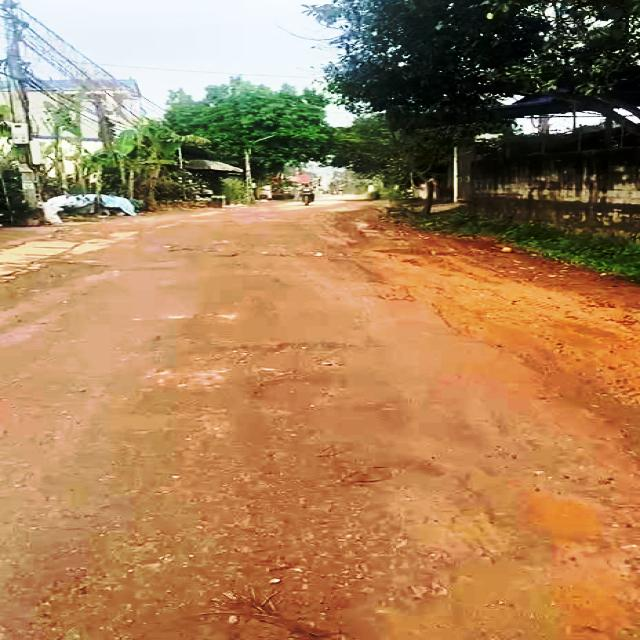pothole: (510, 485, 640, 556)
